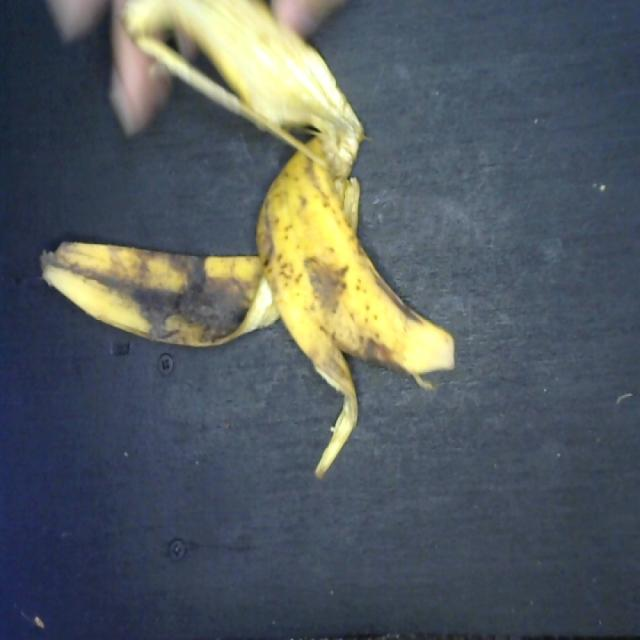biodegradable: (38, 0, 466, 483)
